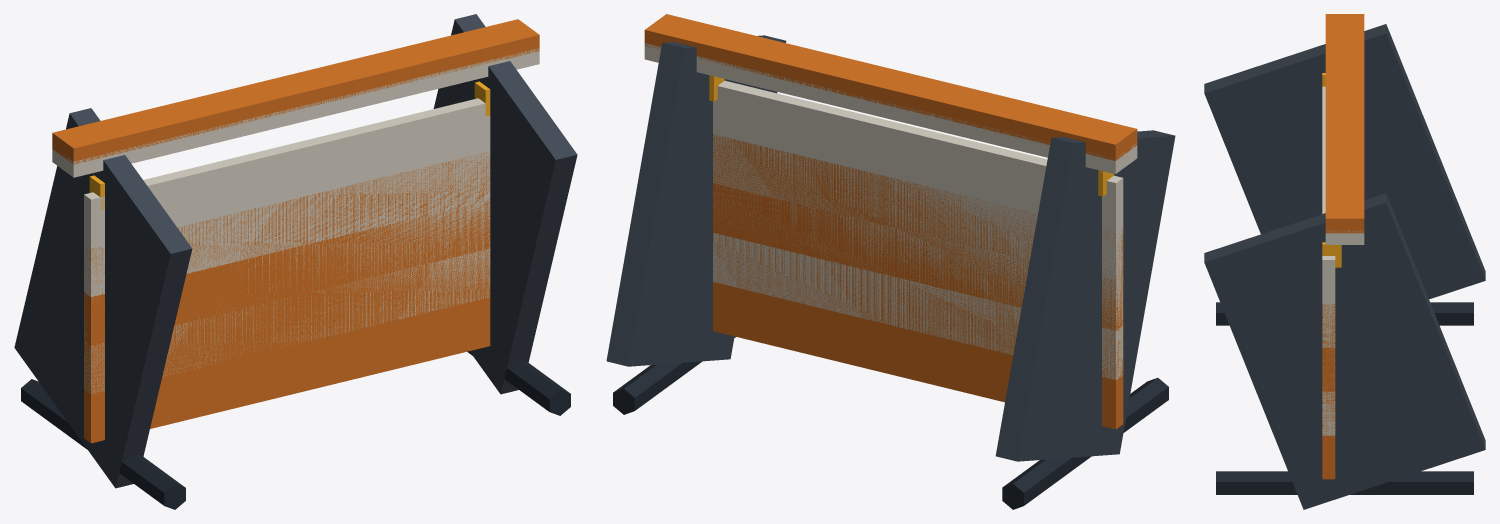
Rendered from decor_1.fbx.
3 views of the same model, side by side, from view 1: azimuth 30°, elevation 25°; view 2: azimuth 150°, elevation 25°; view 3: azimuth 270°, elevation 25° (orthographic). The views are drawn at different scales.
Parts seen in each view (by area): view 1: decor_1; view 2: decor_1; view 3: decor_1.
Boxes of the visible parts, bbox=[...] form: decor_1: bbox=[14, 14, 577, 509]; decor_1: bbox=[606, 14, 1175, 509]; decor_1: bbox=[1204, 14, 1485, 509].
Bounding box in the file's own units: 1.5 × 1.05 × 0.8716.
